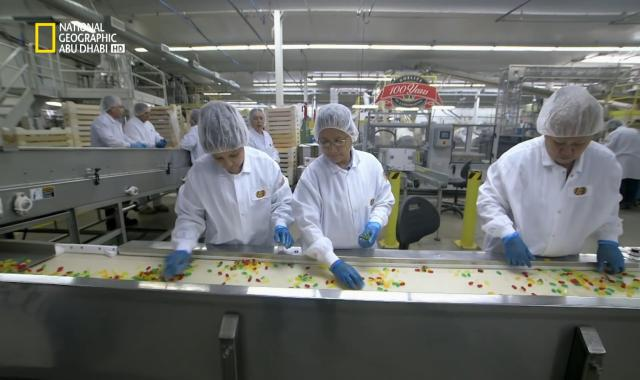hairnet: (535, 85, 603, 142), (197, 102, 250, 154), (312, 102, 358, 147), (98, 93, 122, 122), (249, 106, 270, 133), (132, 100, 150, 120), (607, 118, 626, 133)
